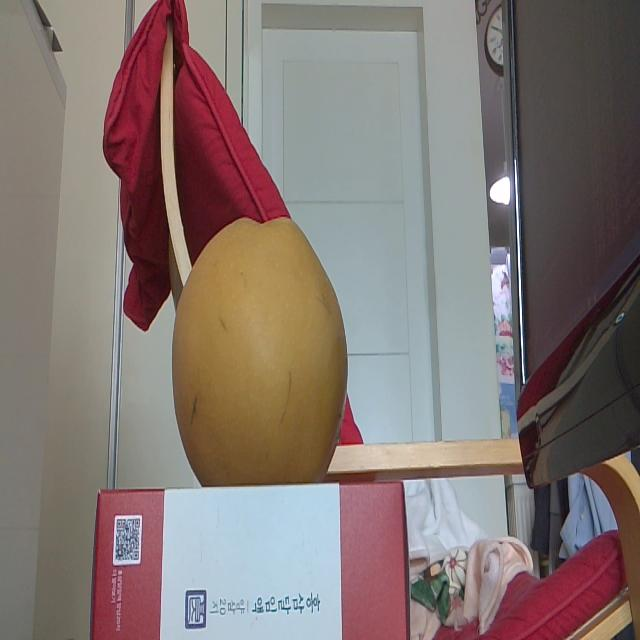pear: (173, 215, 348, 485)
